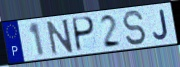1: (28, 21, 46, 58)
2: (97, 14, 122, 49)
J: (152, 9, 170, 42)
N: (46, 18, 76, 57)
P: (72, 16, 96, 53)
S: (121, 10, 148, 47)
